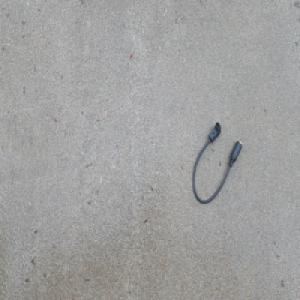Wire: (192, 122, 243, 206)
